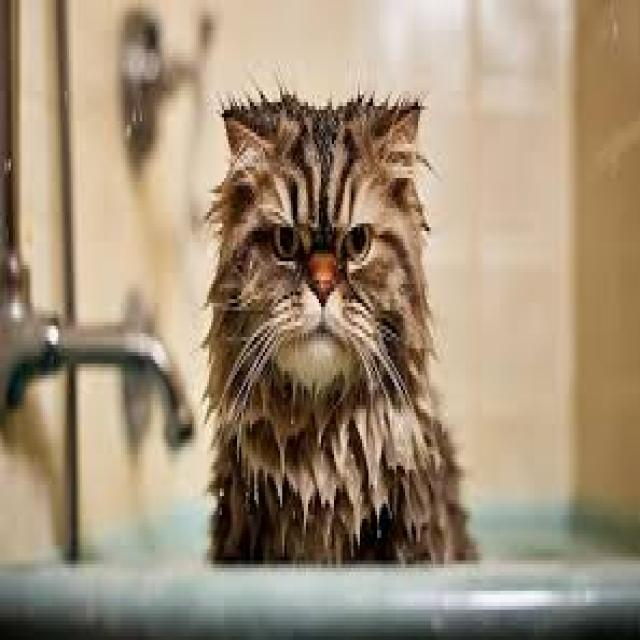cat: (195, 81, 482, 572)
